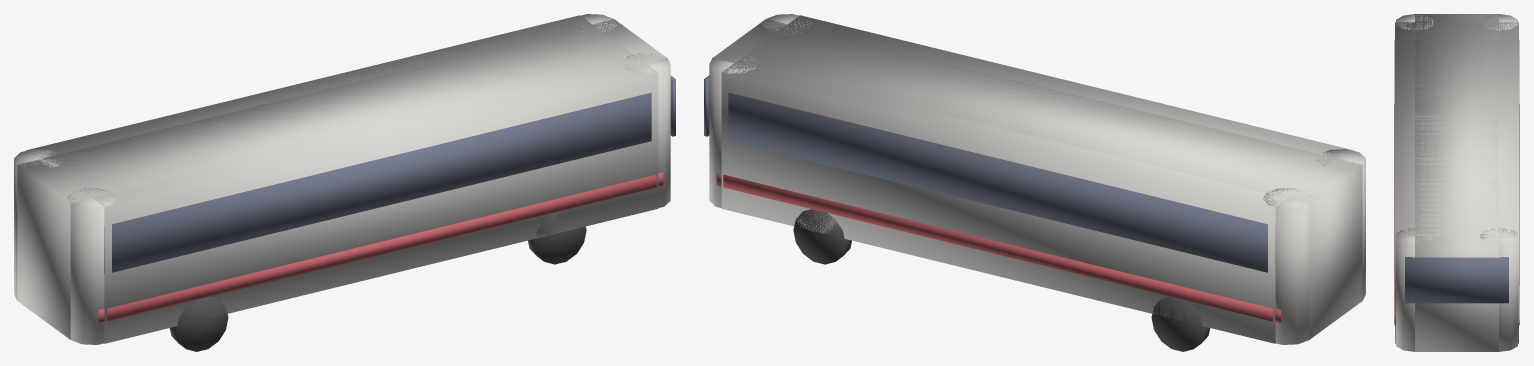
The model's file is bus.glb.
3 views of the same model, side by side, from view 1: azimuth 30°, elevation 25°; view 2: azimuth 150°, elevation 25°; view 3: azimuth 270°, elevation 25° (orthographic). The views are drawn at different scales.
Parts seen in each view (by area): view 1: bus; view 2: bus; view 3: bus.
Part boxes in pixels (bbox=[...]): bus: bbox=[14, 14, 675, 351]; bus: bbox=[704, 14, 1365, 351]; bus: bbox=[1394, 14, 1519, 351].
Bounding box in the file's own units: 11.04 × 2.94 × 2.53.
